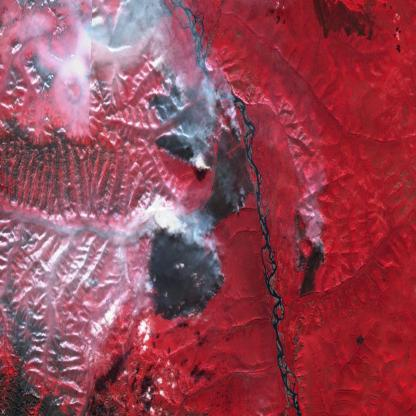fire: (146, 207, 229, 331), (154, 69, 246, 174), (288, 223, 329, 275)
